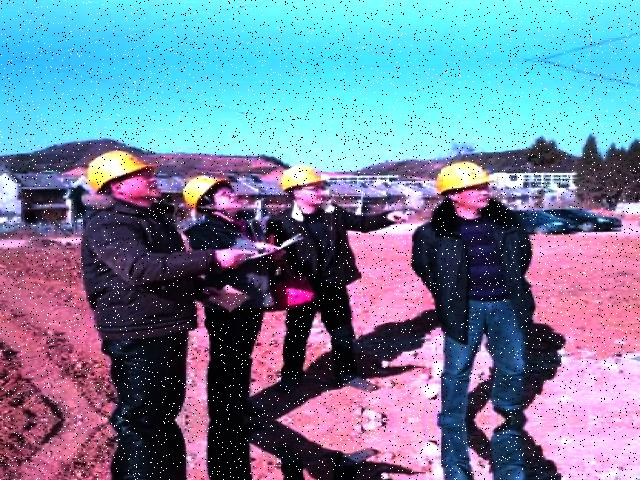Helmet: (81, 145, 152, 199), (429, 156, 489, 200), (176, 171, 232, 213), (273, 159, 328, 196)
